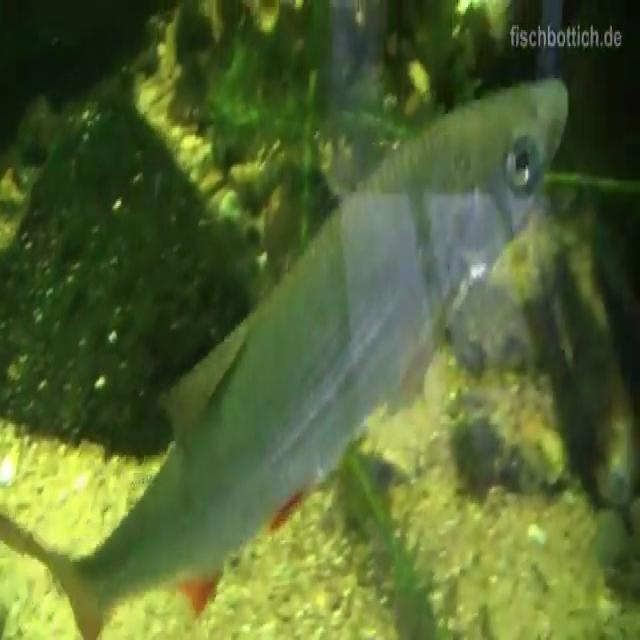Cakil Baligi: (43, 60, 573, 640)
